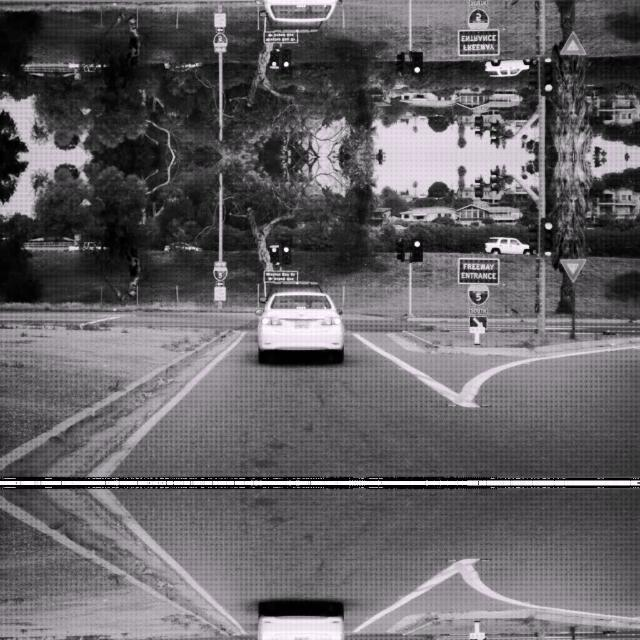yield: (558, 257, 586, 281), (558, 31, 586, 55)
